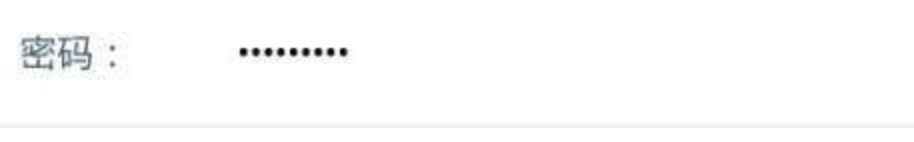EditText: (1, 1, 913, 141)
